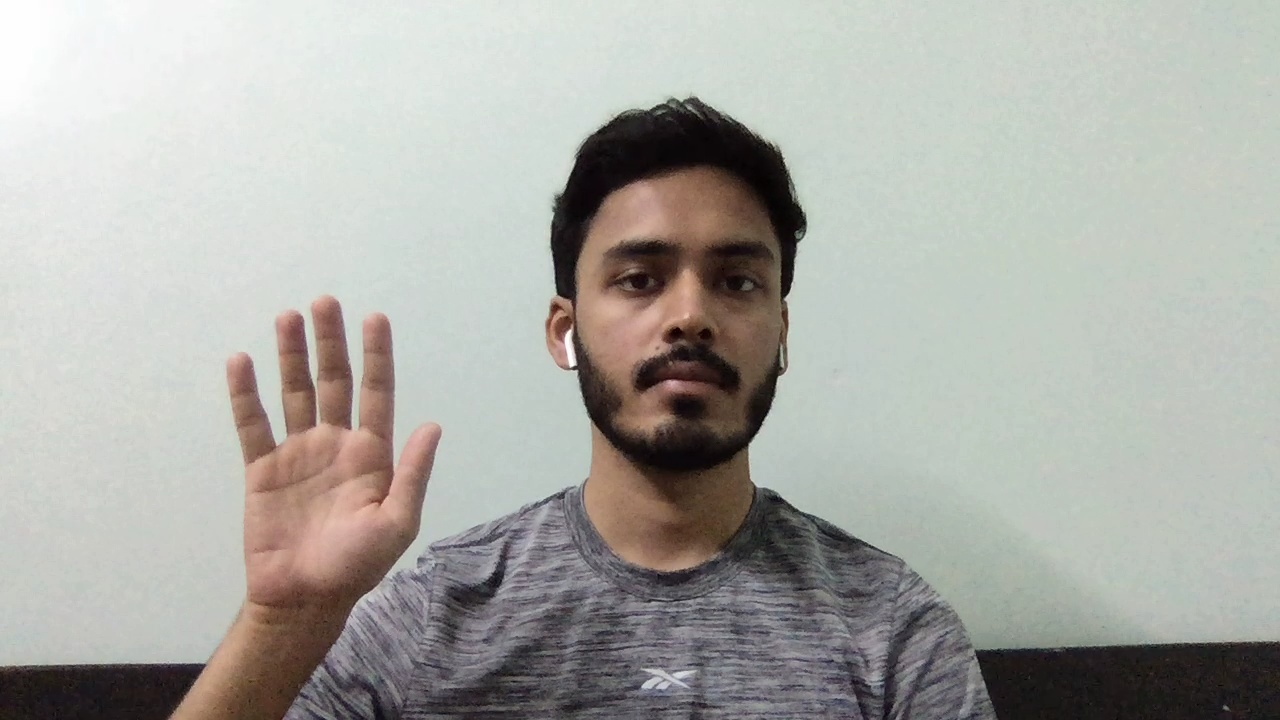Hello: (210, 283, 452, 616)
